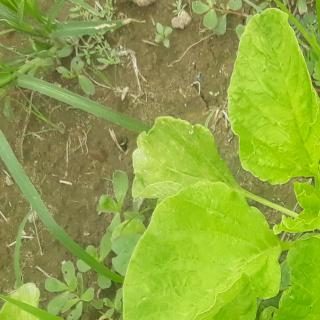karat_putih: (134, 118, 200, 179)
virus_keriting: (233, 5, 305, 132), (277, 237, 320, 320)
